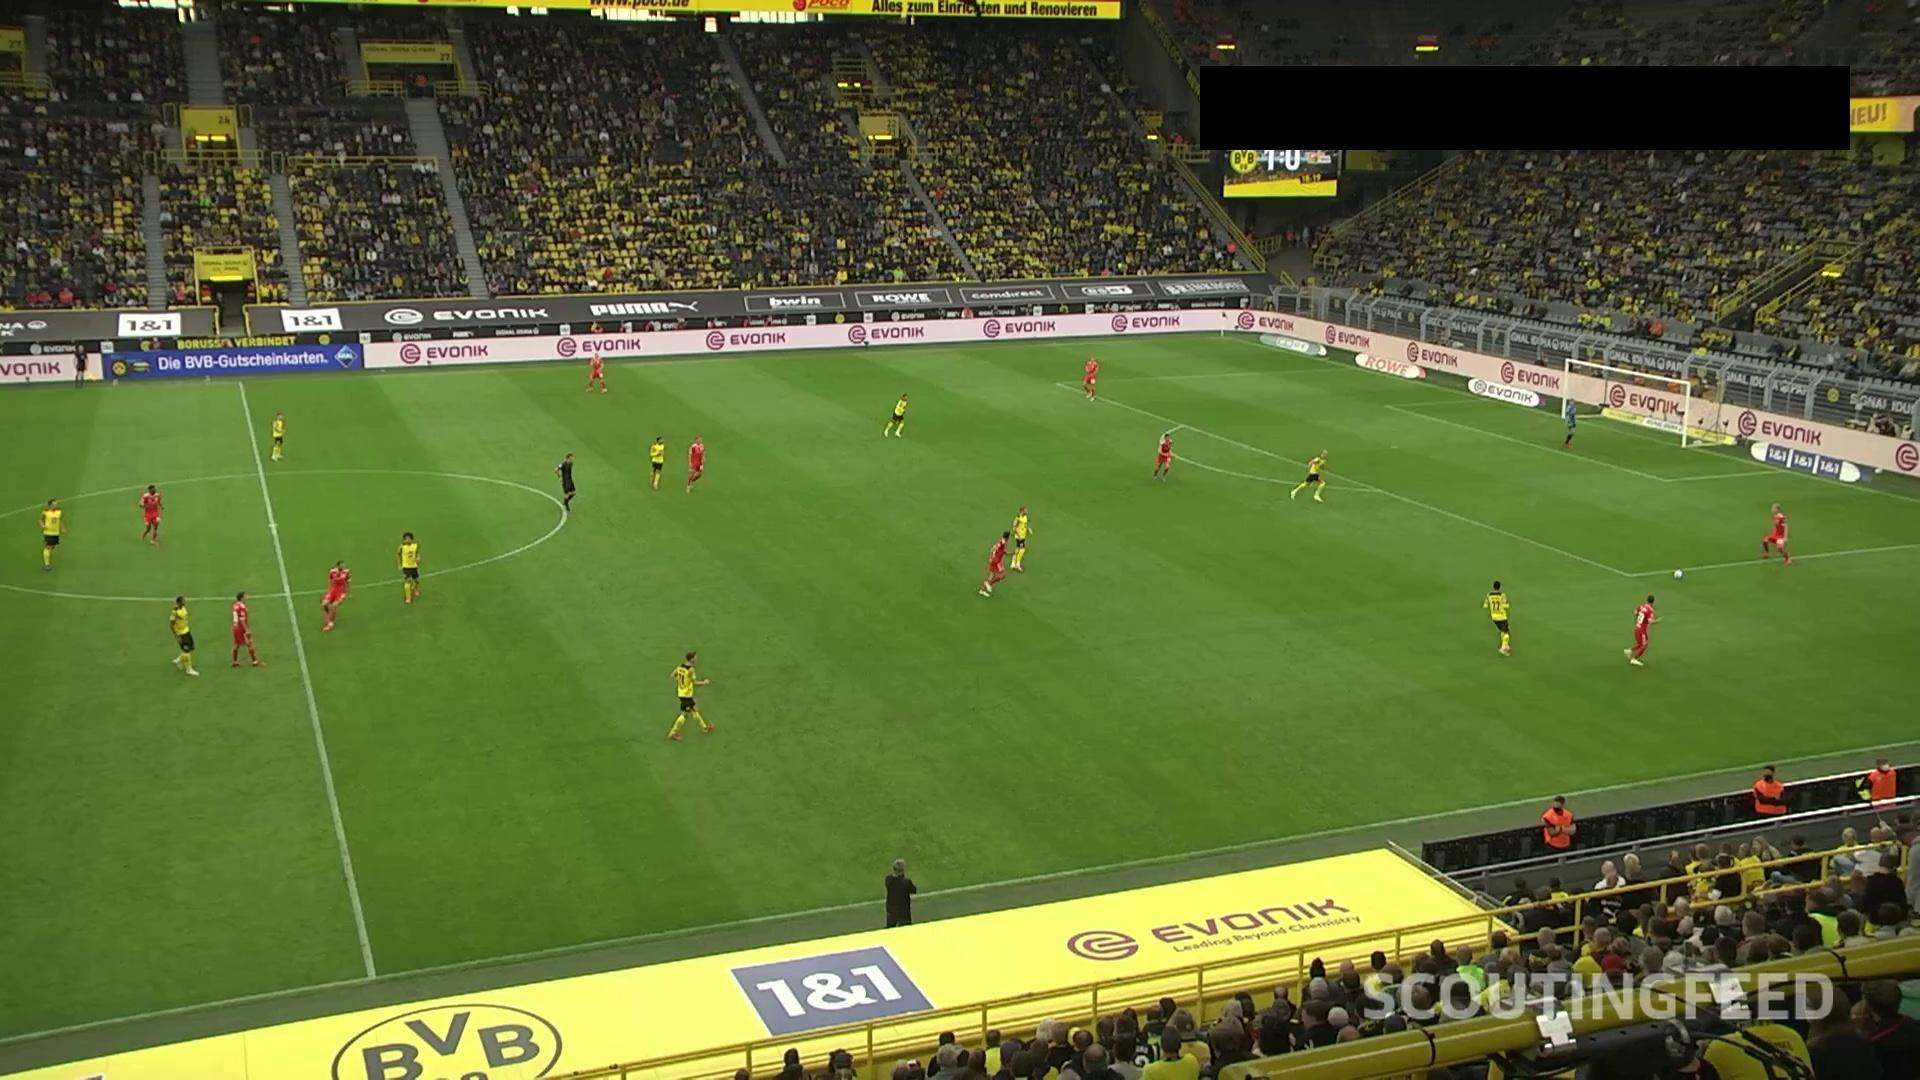Location-of-ball: (1667, 562, 1691, 585)
